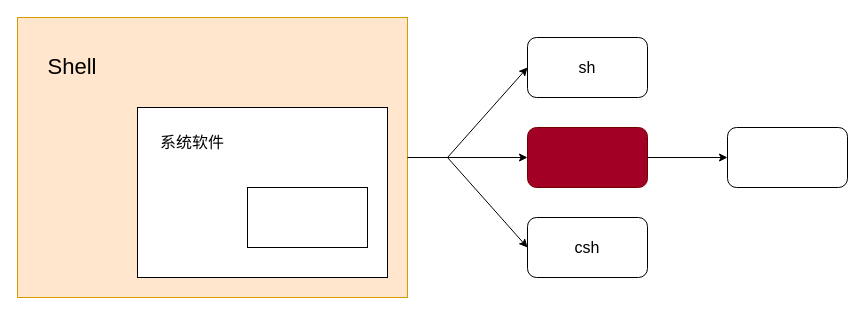
Image size: 865x315. Some labels were removed from this diagram. Each missing label, with the centre of its shape:
"bash" goes at pixel 587 157.
"内核 Kernel" goes at pixel 307 217.
